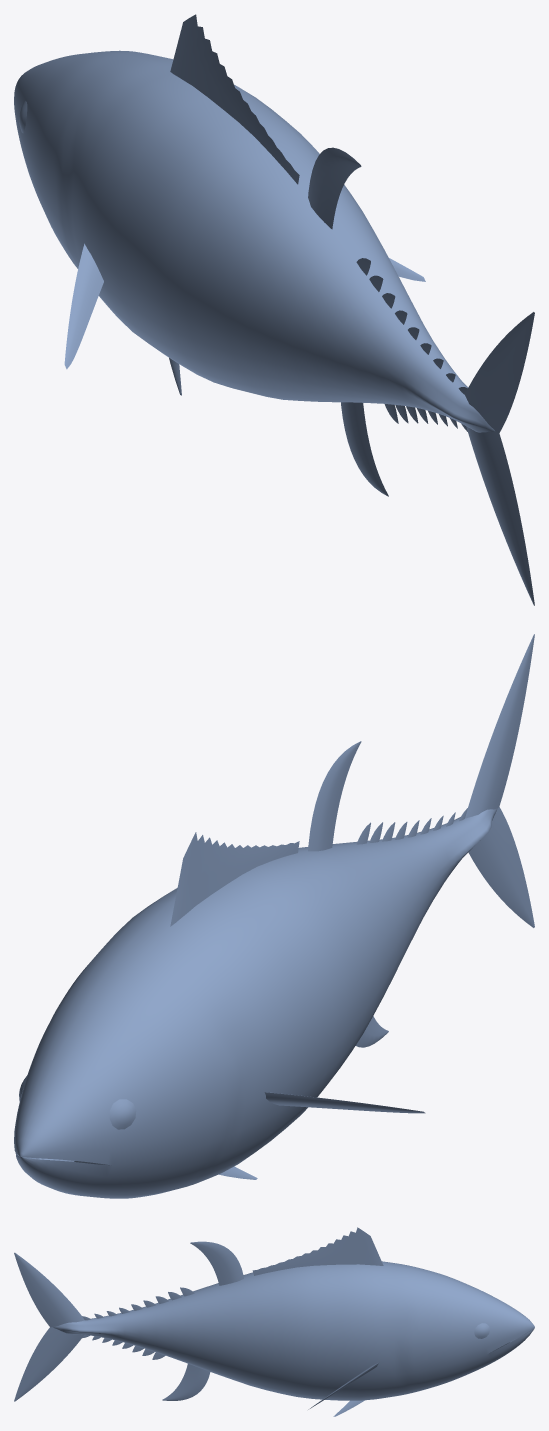
Rendered from bluefin_tuna_lo.glb.
The picture shows the model from 3 angles, top to bottom: view 1: azimuth 30°, elevation 25°; view 2: azimuth 150°, elevation 25°; view 3: azimuth 270°, elevation 25°; orthographic projection. The views are drawn at different scales.
Visible parts, largest first — view 1: bluefin_tuna_lo; view 2: bluefin_tuna_lo; view 3: bluefin_tuna_lo.
Part boxes in pixels (left/top/right/bottom): bluefin_tuna_lo: left=14, top=14, right=534, bottom=605; bluefin_tuna_lo: left=14, top=634, right=534, bottom=1198; bluefin_tuna_lo: left=14, top=1227, right=534, bottom=1416.
Bounding box in the file's own units: 1.01 × 0.953 × 2.5.
